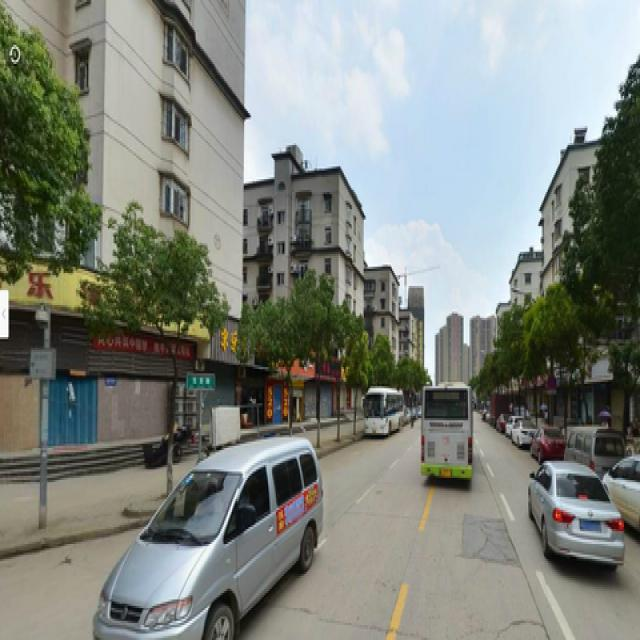cinn: (125, 207, 203, 506), (260, 301, 300, 431), (330, 305, 350, 442)
